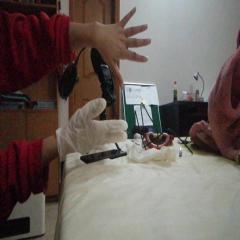gloved: (57, 98, 128, 151)
not-gloved: (82, 6, 152, 86)
